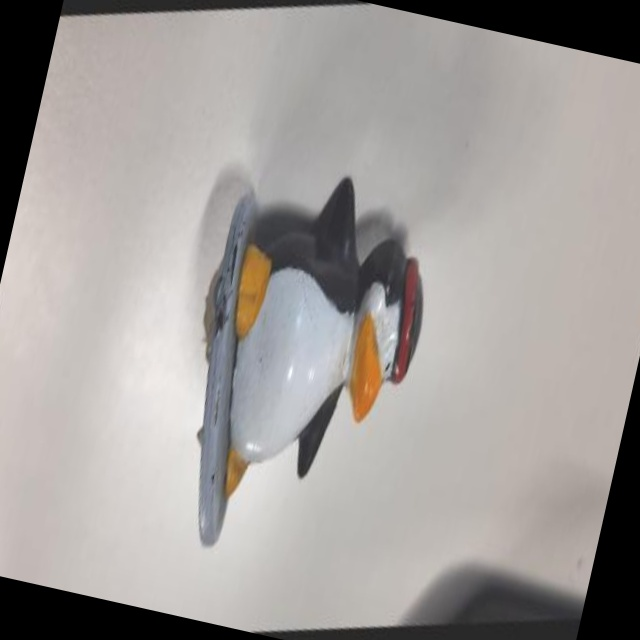Penguin: (131, 114, 479, 617)
